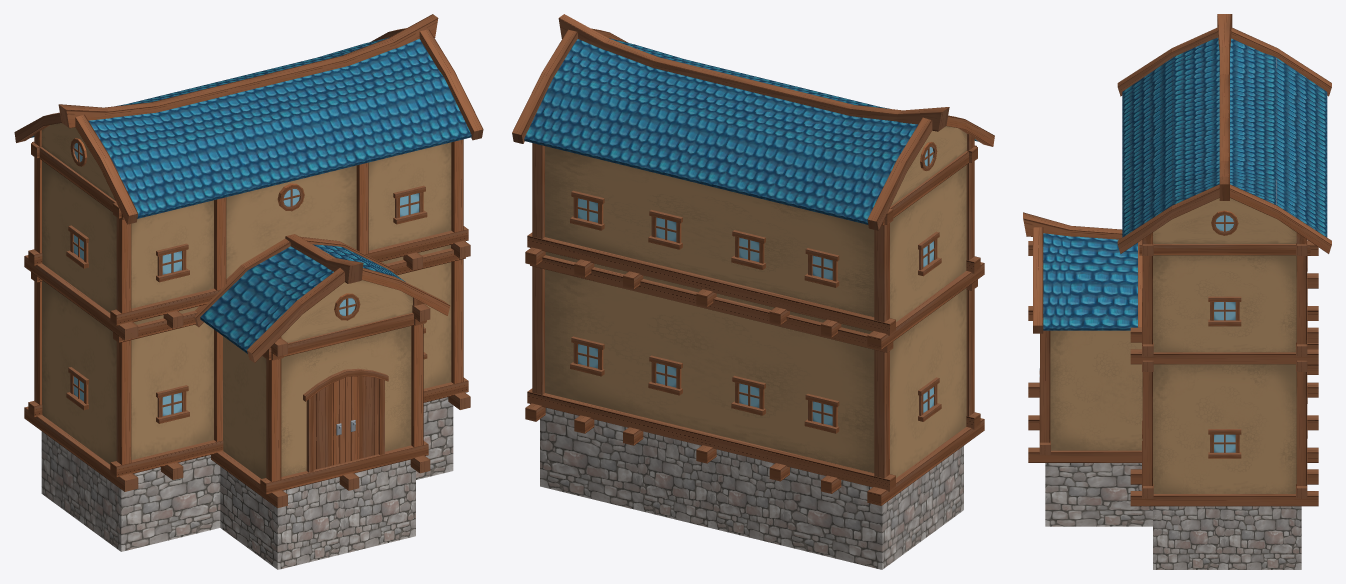
Rendered from house_town_blue_4.glb.
3 renders of one model, left to right at view 1: azimuth 30°, elevation 25°; view 2: azimuth 150°, elevation 25°; view 3: azimuth 270°, elevation 25°, orthographic. The views are drawn at different scales.
Parts seen in each view (by area): view 1: house_town_blue_4; view 2: house_town_blue_4; view 3: house_town_blue_4.
Part boxes in pixels (x1,y1,x2,y2): house_town_blue_4: (14,14,483,569); house_town_blue_4: (512,14,994,569); house_town_blue_4: (1023,14,1331,569).
Size of the model in its own units: 15.73 by 16.99 by 12.04.
1 material, 1 textured.
